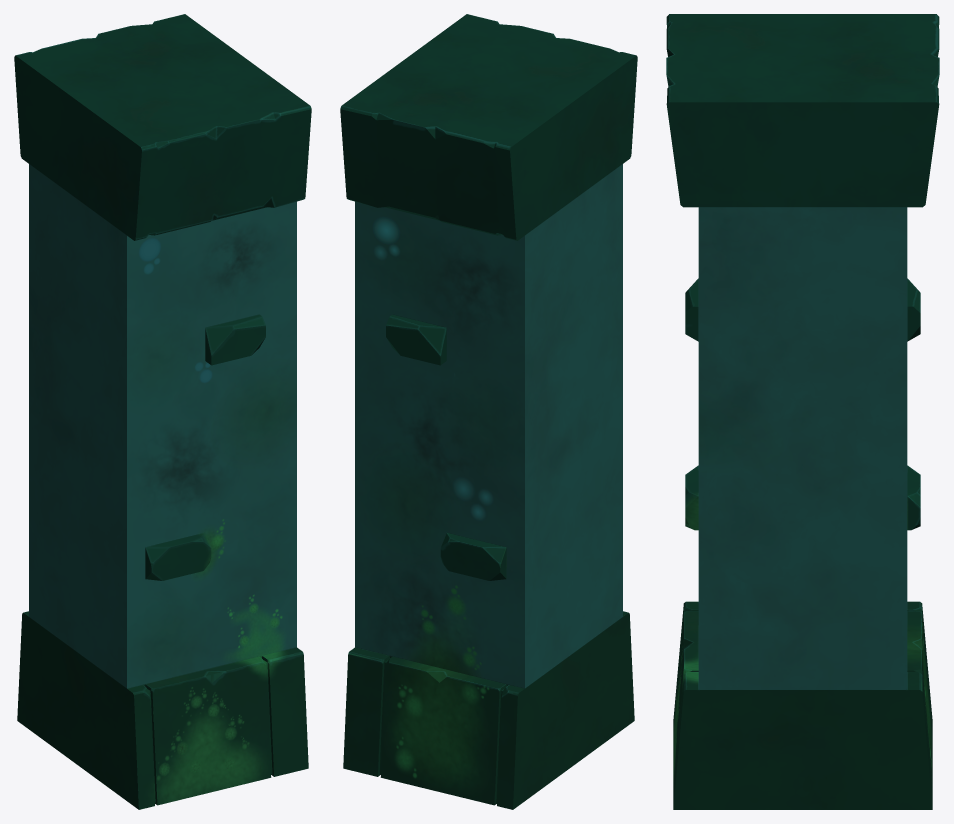
The model's file is WallType1.fbx.
3 renders of one model, left to right at view 1: azimuth 30°, elevation 25°; view 2: azimuth 150°, elevation 25°; view 3: azimuth 270°, elevation 25°, orthographic. The views are drawn at different scales.
Parts seen in each view (by area): view 1: Cube.002; view 2: Cube.002; view 3: Cube.002.
Boxes of the visible parts, x1,y1,x2,y2 form: Cube.002: [14, 14, 311, 809]; Cube.002: [340, 14, 637, 809]; Cube.002: [666, 14, 939, 809].
Bounding box in the file's own units: 200 × 748 × 262.
Materials: 1 (1 with a texture image).
